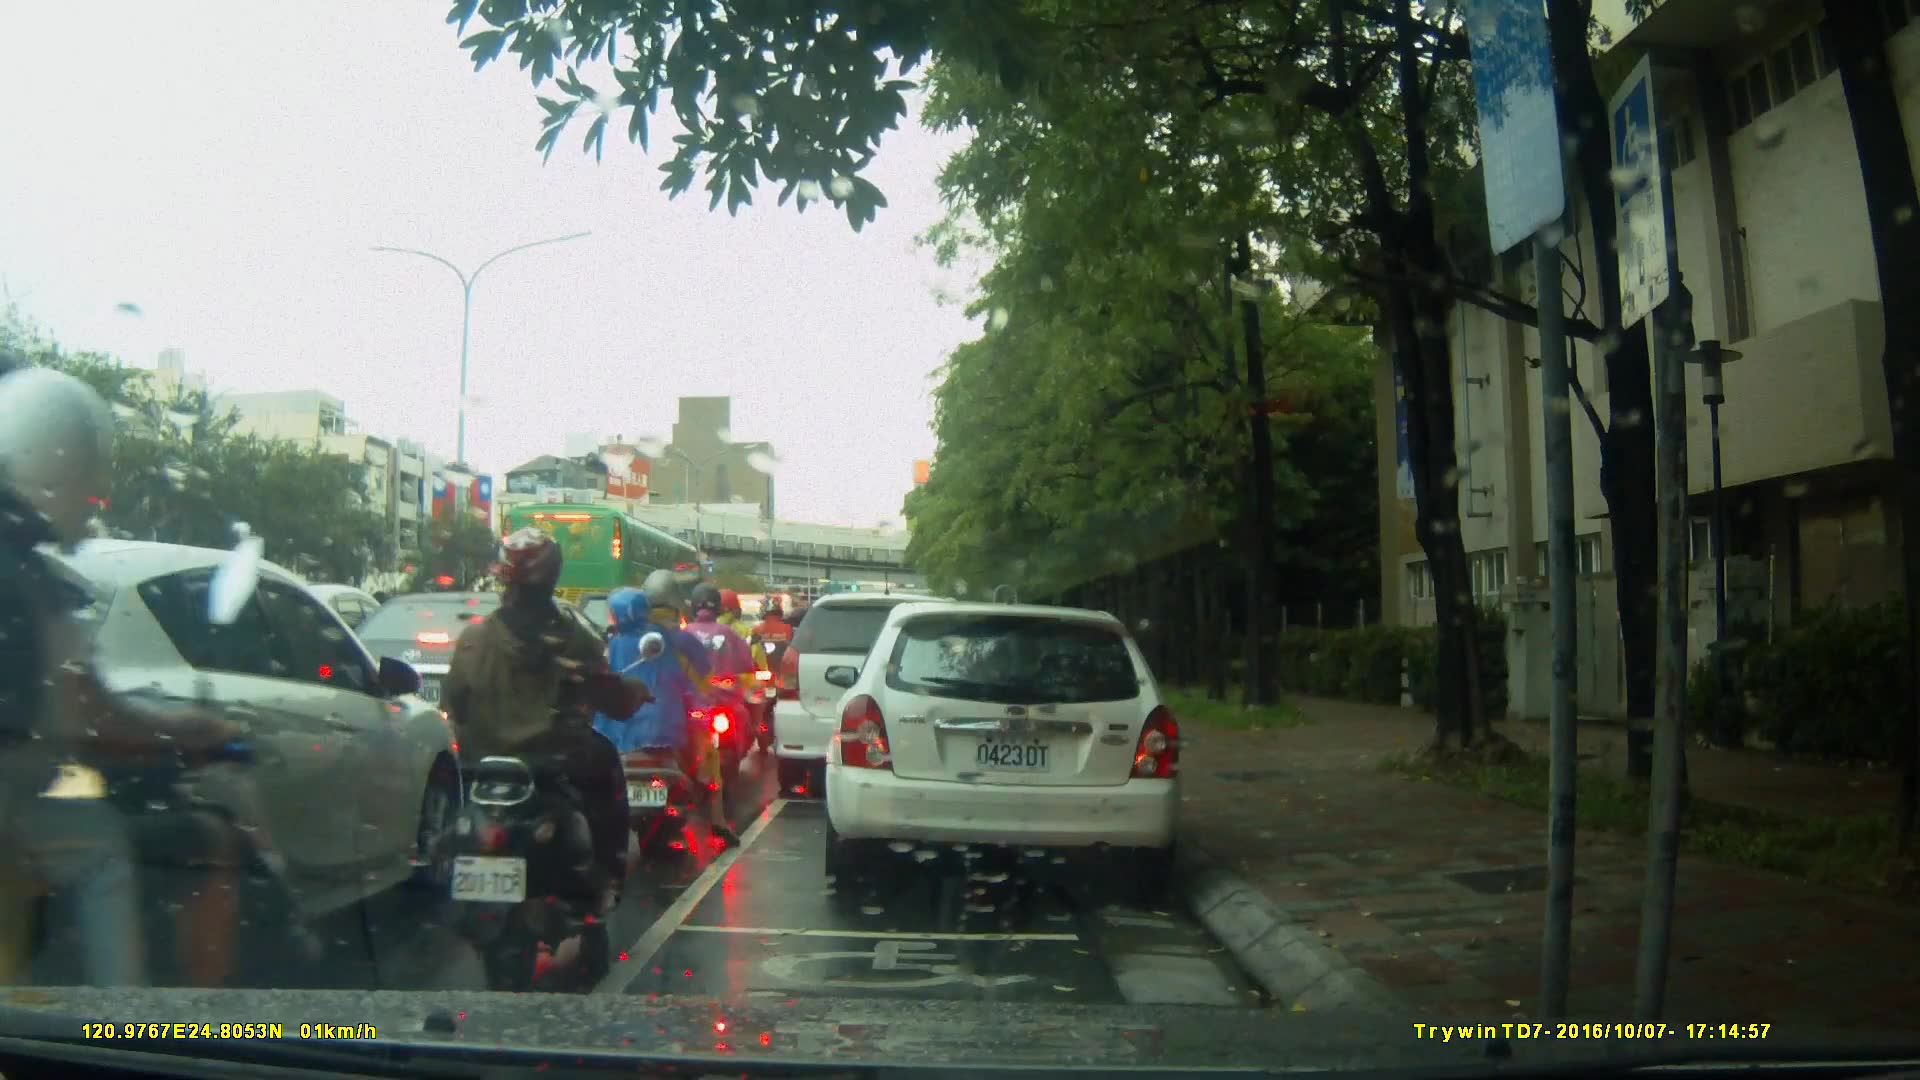rider: (4, 389, 345, 1073), (424, 521, 650, 981), (601, 572, 719, 841), (673, 587, 745, 784), (709, 590, 781, 775), (750, 593, 799, 737)
vehicle: (4, 535, 467, 988), (831, 592, 1196, 897), (312, 589, 629, 776), (770, 590, 999, 804), (501, 503, 709, 636)
